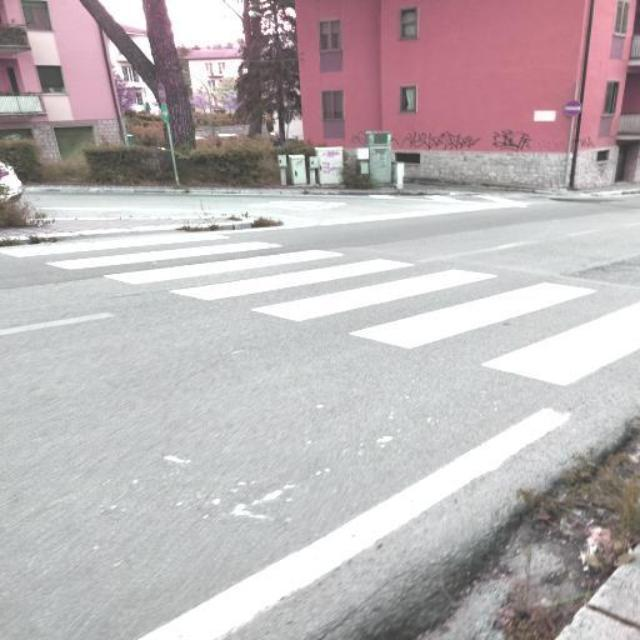sidewalk: (0, 226, 640, 416)
